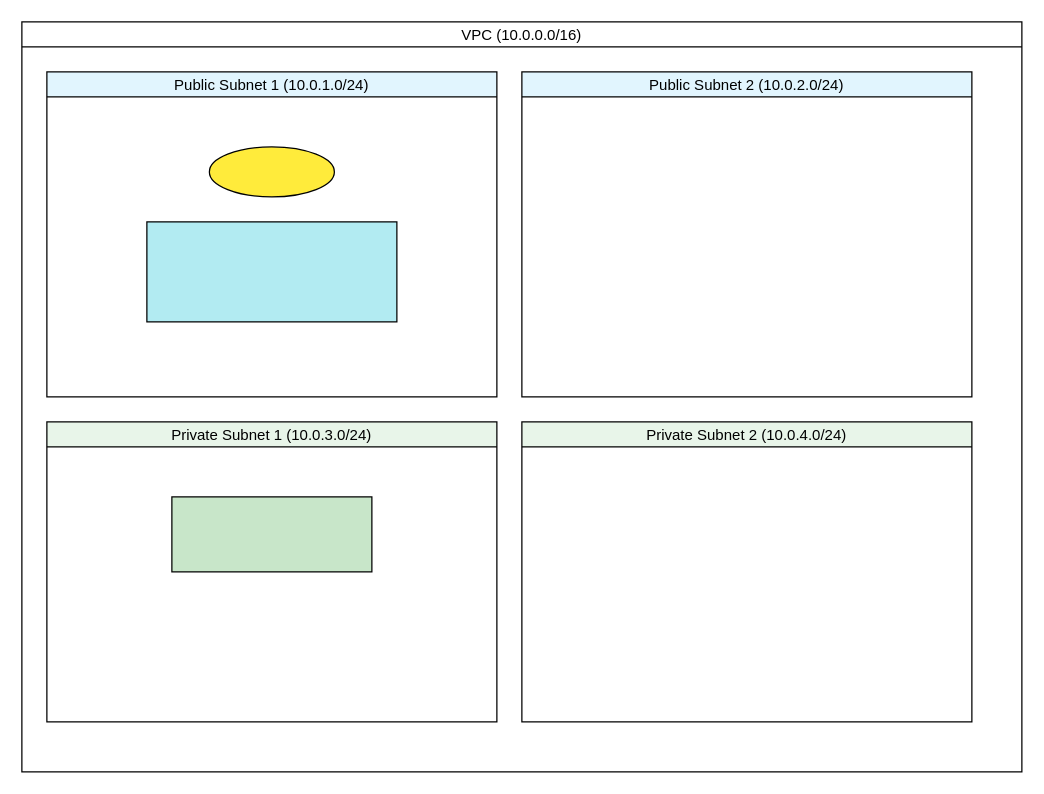
This 1044x794 diagram has some shape labels left out. Each missing label, with the centre of its shape:
"ALB" goes at (271,171).
"EC2 (Auto Scaling)" goes at (271,271).
"RDS (MySQL)" goes at (271,534).
